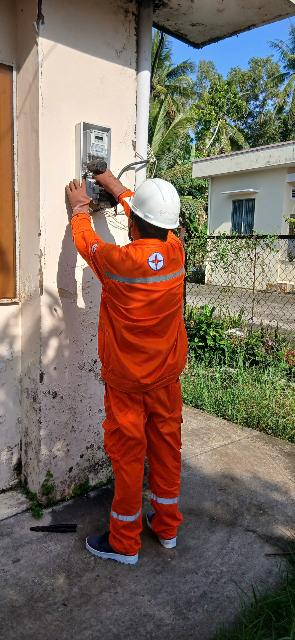gloves: (57, 178, 101, 226), (98, 163, 127, 205)
helmet: (124, 173, 187, 229)
shoes: (77, 529, 147, 572), (141, 510, 192, 549)
